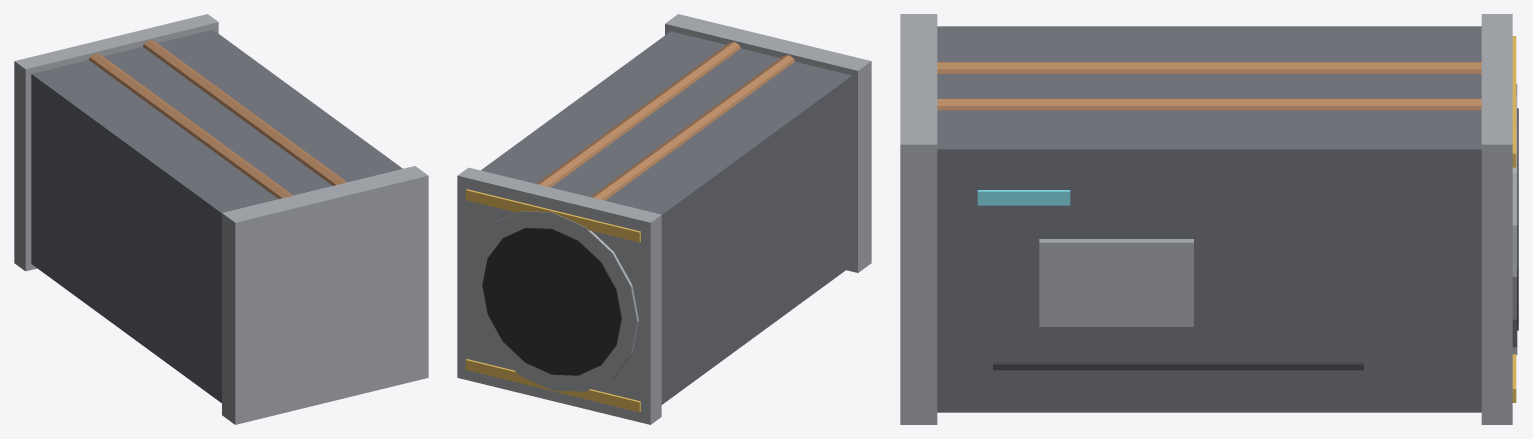
The model's file is bay_tube.glb.
3 renders of one model, left to right at view 1: azimuth 30°, elevation 25°; view 2: azimuth 150°, elevation 25°; view 3: azimuth 270°, elevation 25°, orthographic. The views are drawn at different scales.
Bounding box in the file's own units: 1 × 1 × 2.
